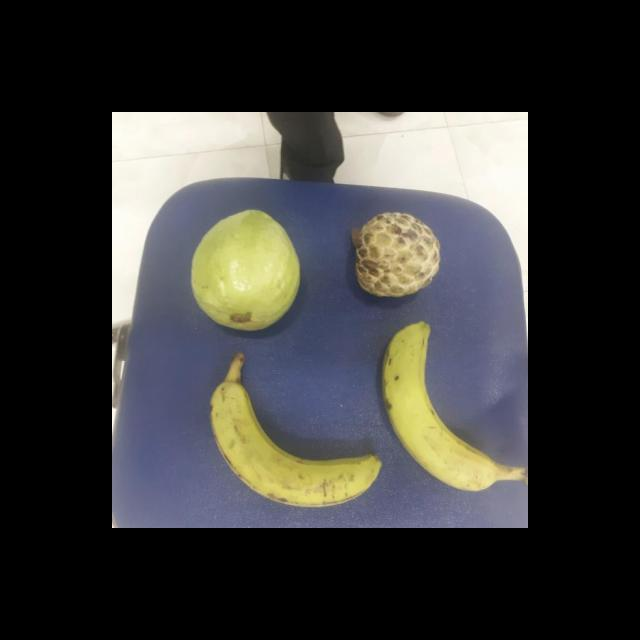Sakya fruit: (347, 210, 441, 297)
banana: (202, 378, 383, 506), (377, 324, 502, 493)
guava: (184, 212, 298, 329)
